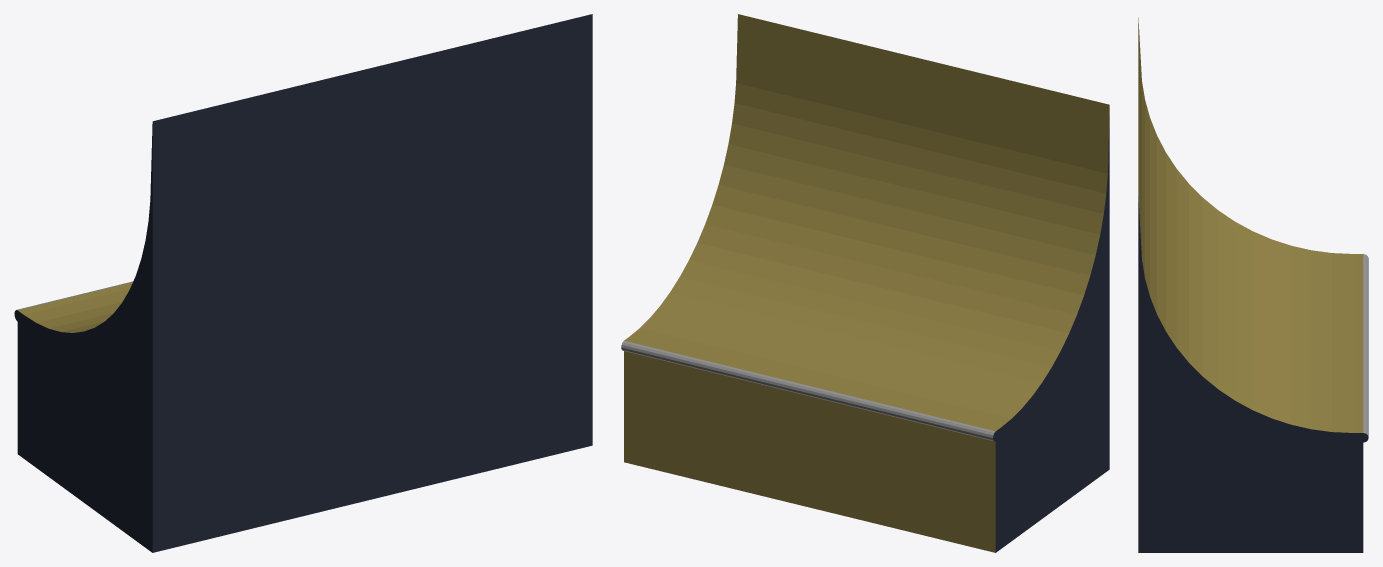
File: Quarterpipe.fbx
3 views of the same model, side by side, from view 1: azimuth 30°, elevation 25°; view 2: azimuth 150°, elevation 25°; view 3: azimuth 270°, elevation 25° (orthographic). The views are drawn at different scales.
Parts seen in each view (by area): view 1: Quarterpipe; view 2: Quarterpipe; view 3: Quarterpipe.
Boxes of the visible parts, x1=… form: Quarterpipe: x1=14, y1=14, x2=592, y2=552; Quarterpipe: x1=621, y1=14, x2=1109, y2=552; Quarterpipe: x1=1138, y1=17, x2=1368, y2=552.
Size of the model in its own units: 1600 by 1500 by 870.
